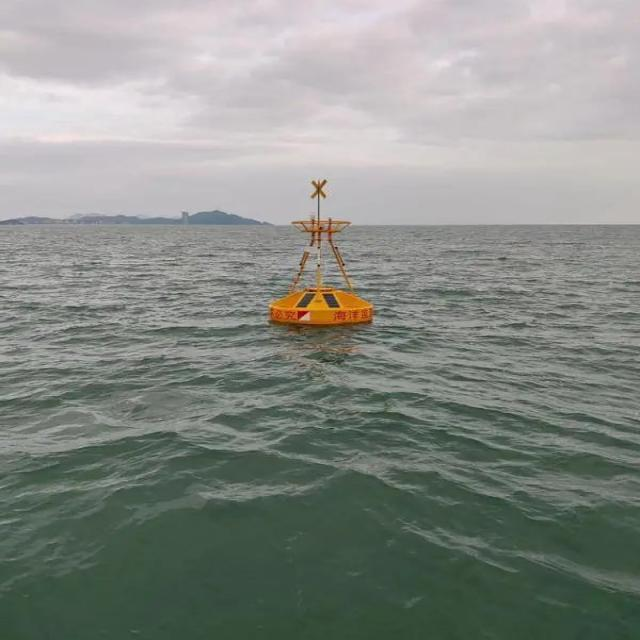buoy: (269, 170, 375, 324)
